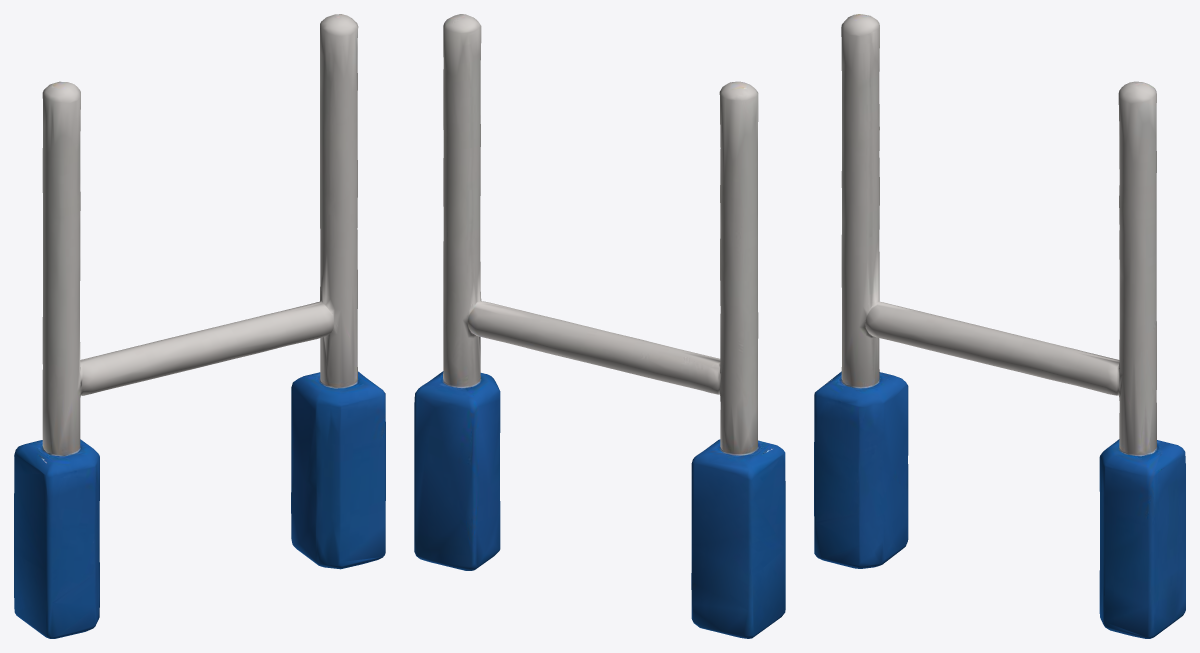
Rendered from rugbyposts.glb.
3 renders of one model, left to right at view 1: azimuth 30°, elevation 25°; view 2: azimuth 150°, elevation 25°; view 3: azimuth 330°, elevation 25°, orthographic.
Visible parts, largest first — view 1: model; view 2: model; view 3: model.
Boxes of the visible parts, bbox=[...] form: model: bbox=[14, 14, 385, 638]; model: bbox=[414, 14, 785, 638]; model: bbox=[814, 14, 1185, 638].
Size of the model in its own units: 1.25 by 1.9 by 0.2297.
Materials: 1 (1 with a texture image).
